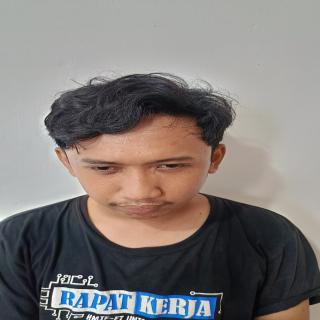Marah: (51, 102, 226, 226)
